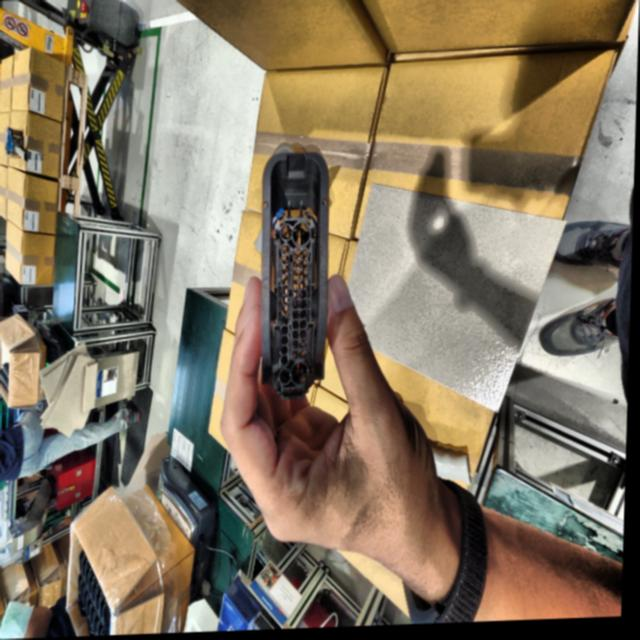P38: (263, 146, 330, 400)
